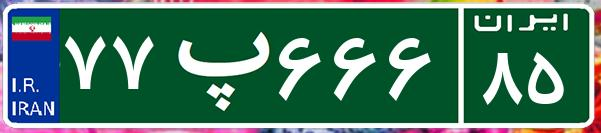5: (525, 38, 570, 115)
6: (385, 28, 445, 110), (273, 28, 330, 110), (330, 28, 385, 110)
7: (57, 26, 110, 107), (110, 28, 158, 105)
8: (475, 38, 525, 113)
پ: (158, 15, 273, 115)
